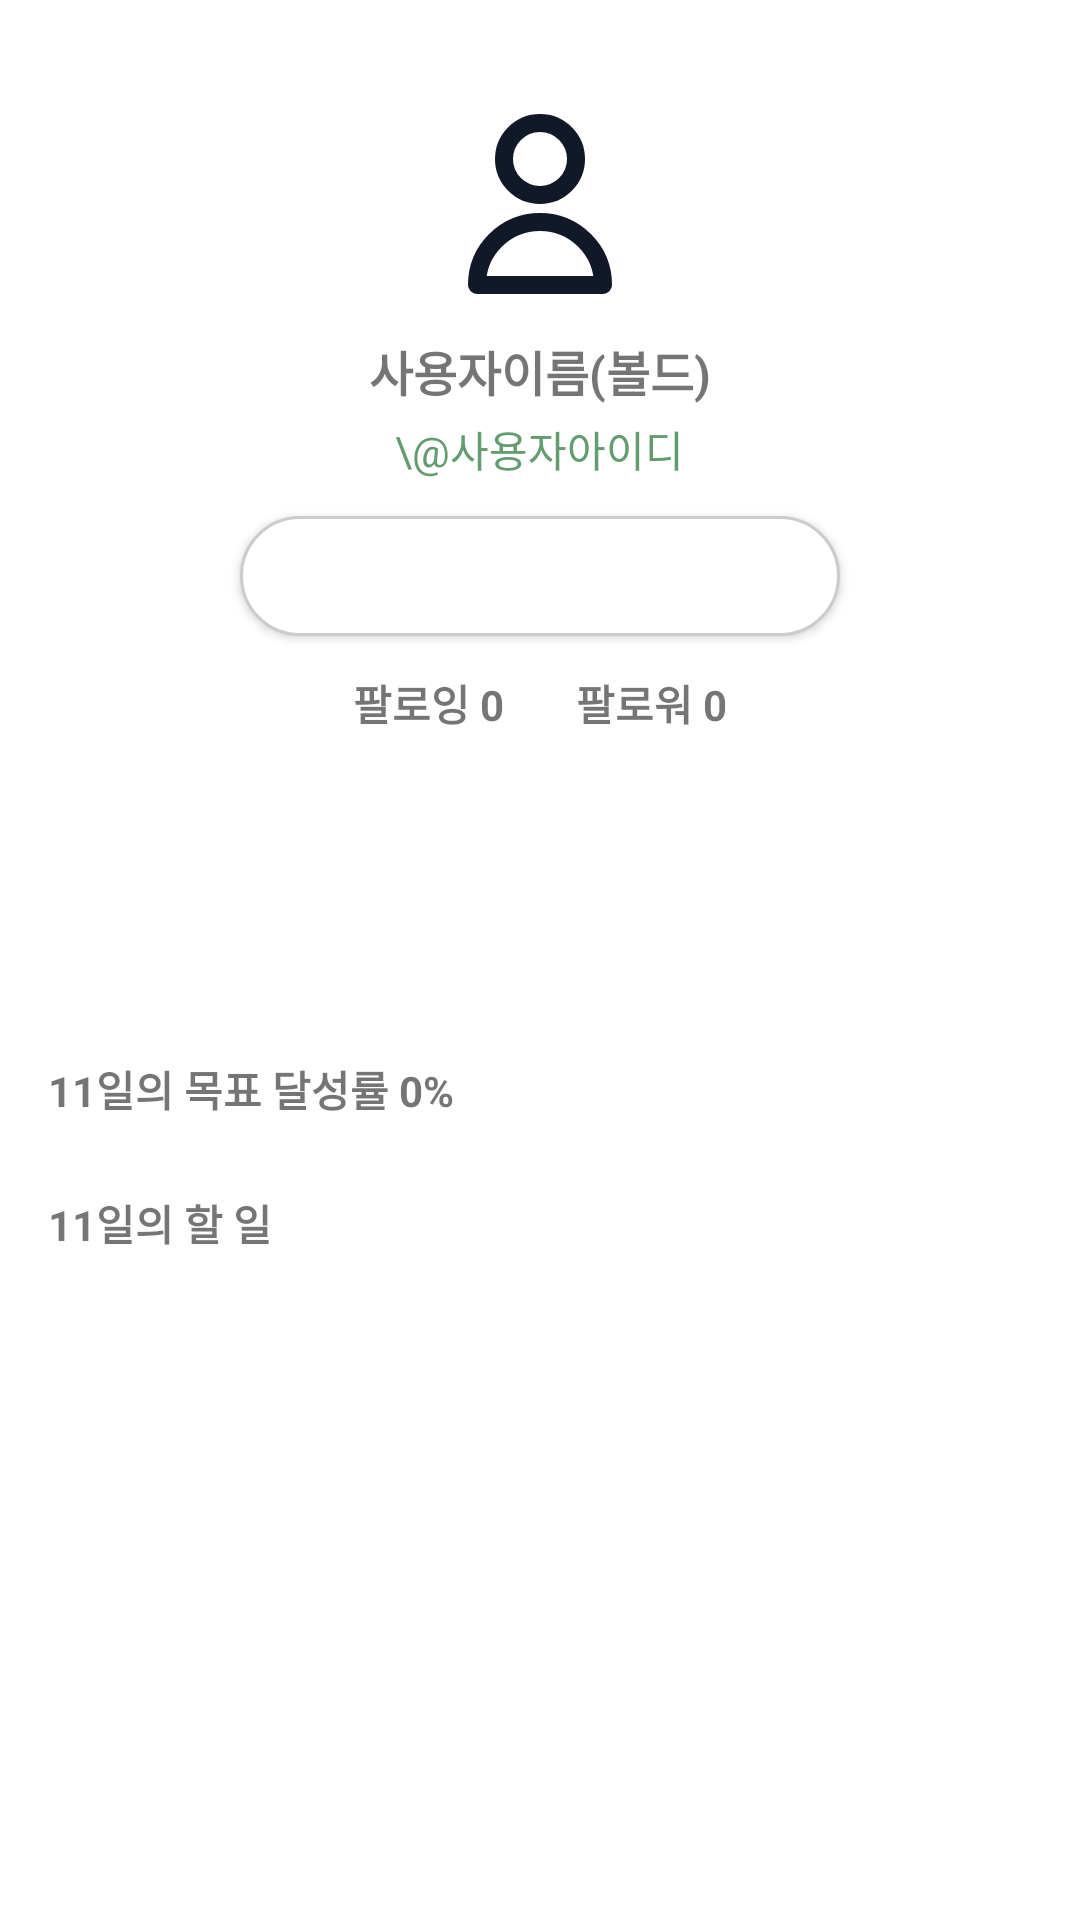

Point at icon controls on the screen. Image size 1080 × 1920, points as point (x, y).
프로필 이미지: point (540, 204)
